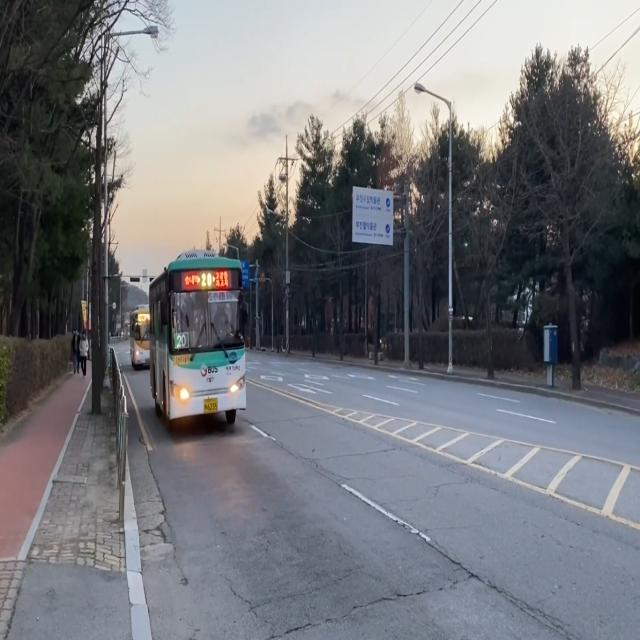bus-number: (201, 272, 212, 288)
